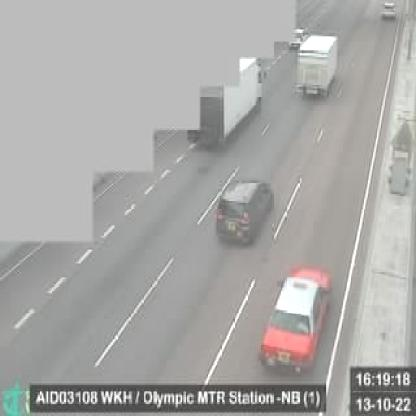Car: (256, 263, 333, 379), (217, 179, 274, 249), (382, 0, 398, 18)
Truck: (187, 53, 264, 146), (298, 31, 340, 102)
